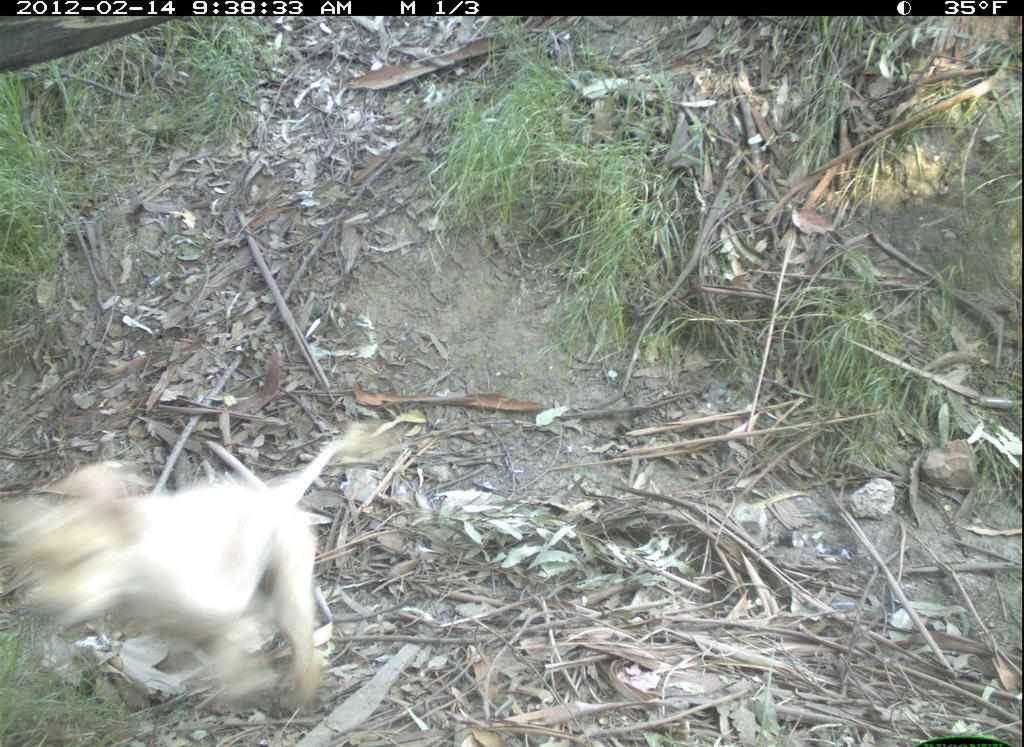dog: (4, 417, 379, 720)
